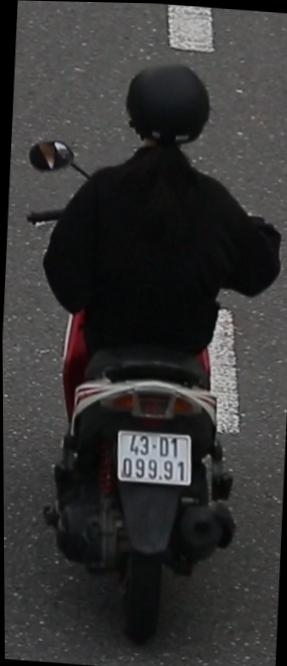LP: (111, 423, 196, 491)
helmet: (119, 53, 216, 162)
